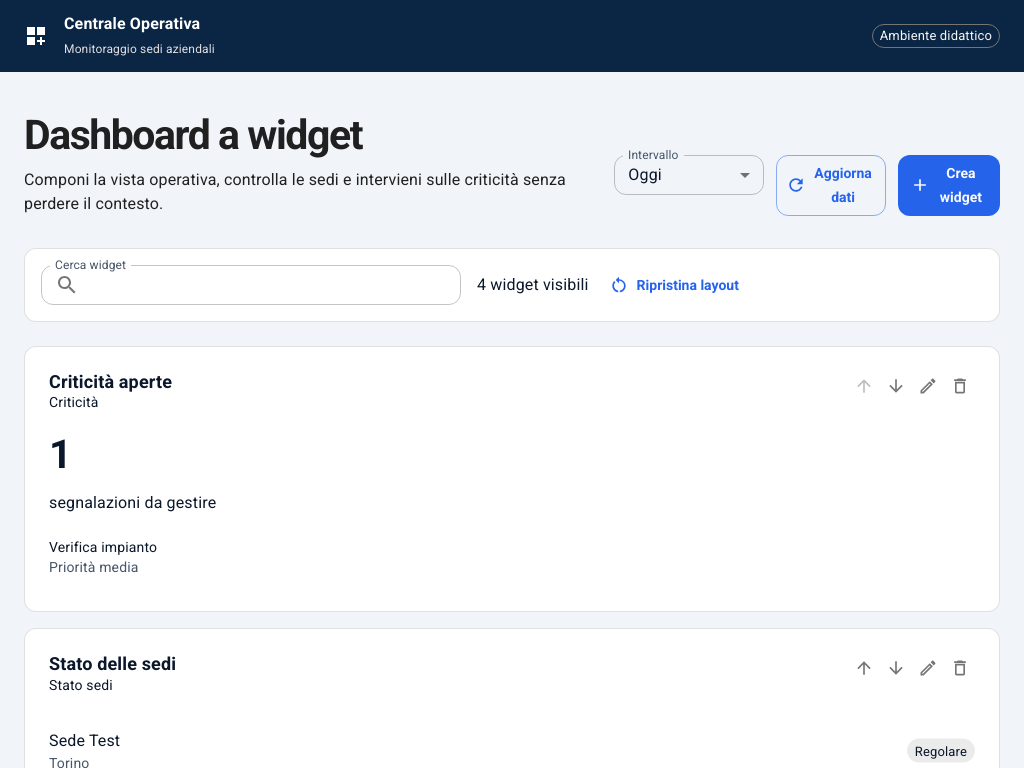
Widget dashboard soluzione › crea un widget con aggiornamento ottimistico
The width and height of the screenshot is (1024, 768).
Expected: the heading "Criticità aperte" is shown, [49,371,172,392]
Click the button "Crea widget": (949, 185) [898,155,1000,216]
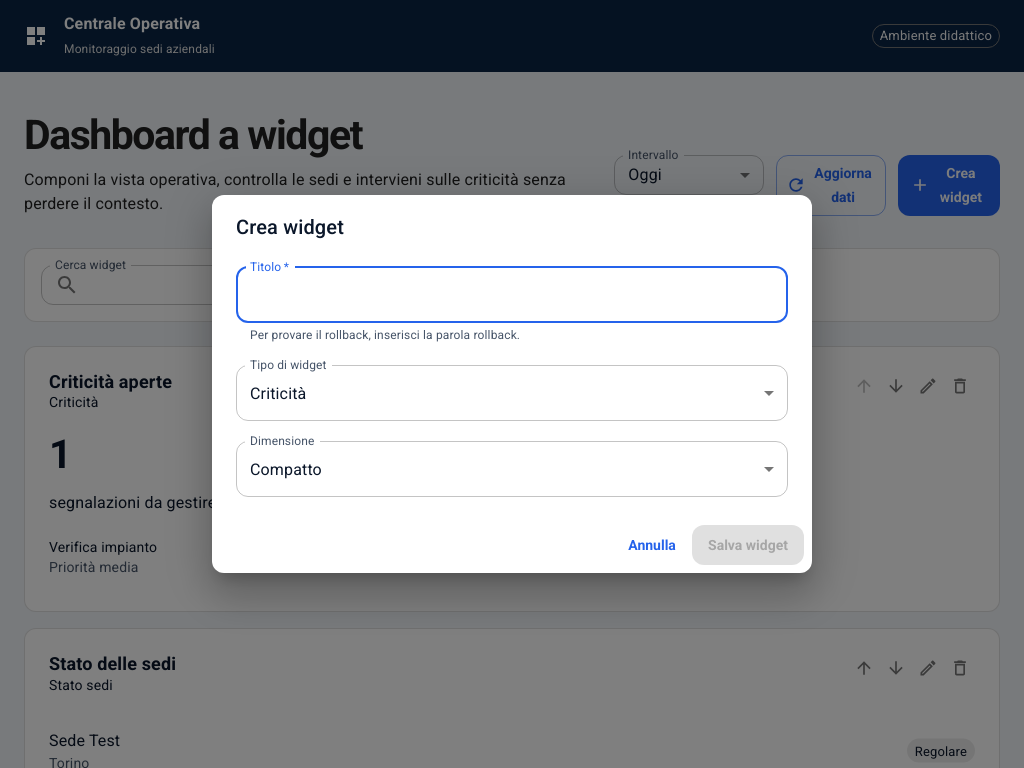
In the field labelled "Titolo": (512, 294) [236,266,788,322], type "Presidio serale"
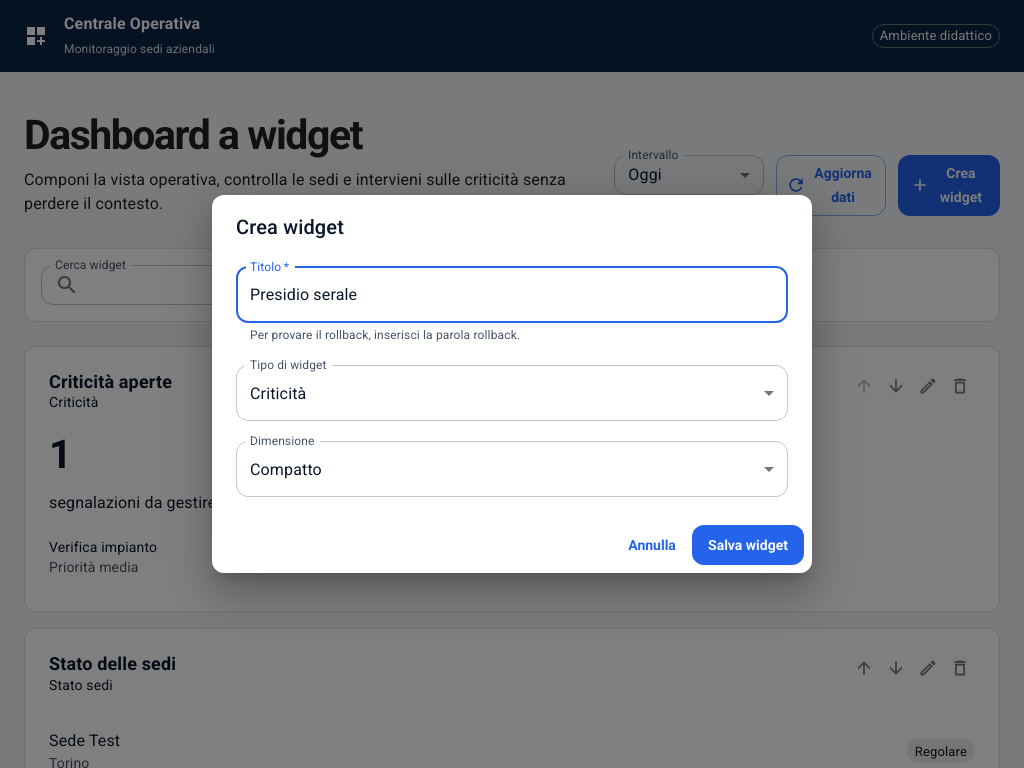
Click the button "Salva widget": (748, 546) [692,526,804,566]
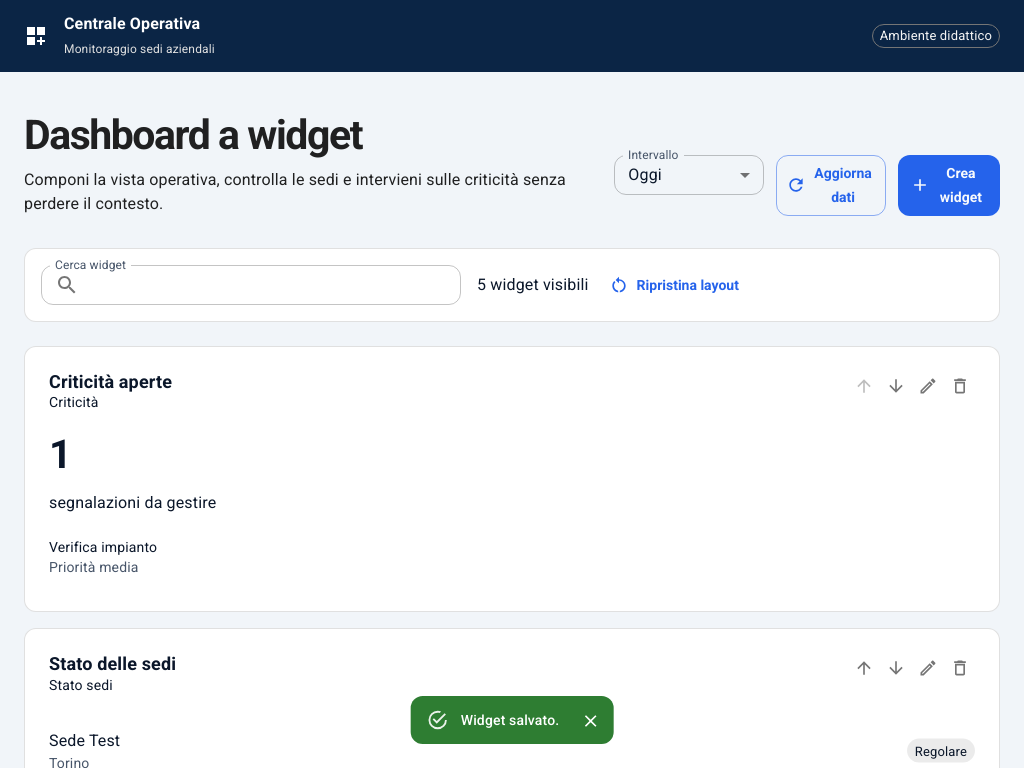
Expected: the text "Widget salvato." is shown, [461,712,559,728]
